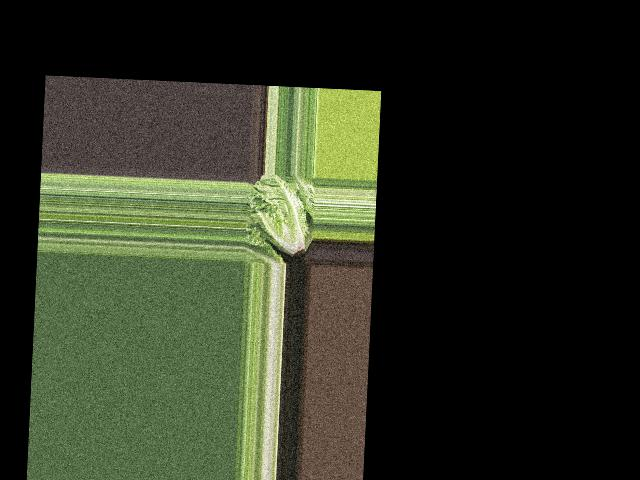lettuce: (249, 174, 316, 261)
